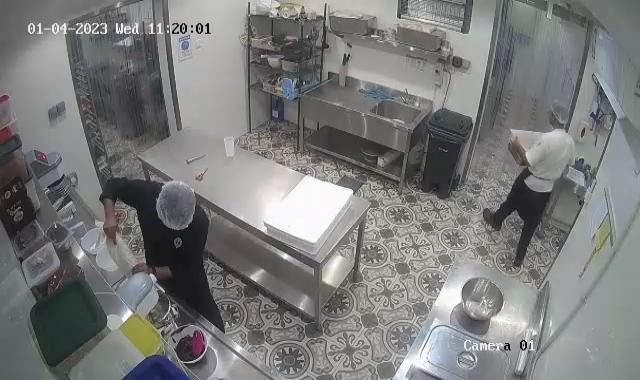hairnet: (154, 178, 196, 229), (548, 99, 572, 128)
